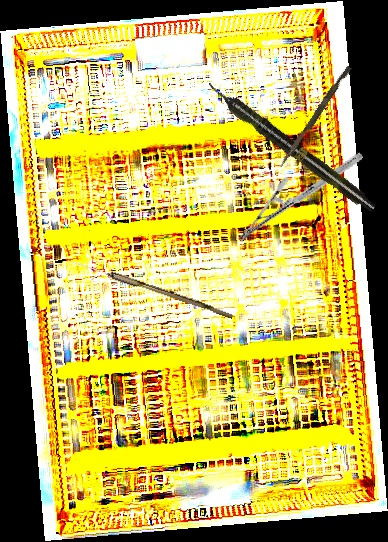Handpiece: (202, 77, 380, 216)
Needle Holder: (236, 120, 365, 275)
Pusher: (279, 64, 352, 170)
Surgical Spoon: (66, 257, 235, 319)
